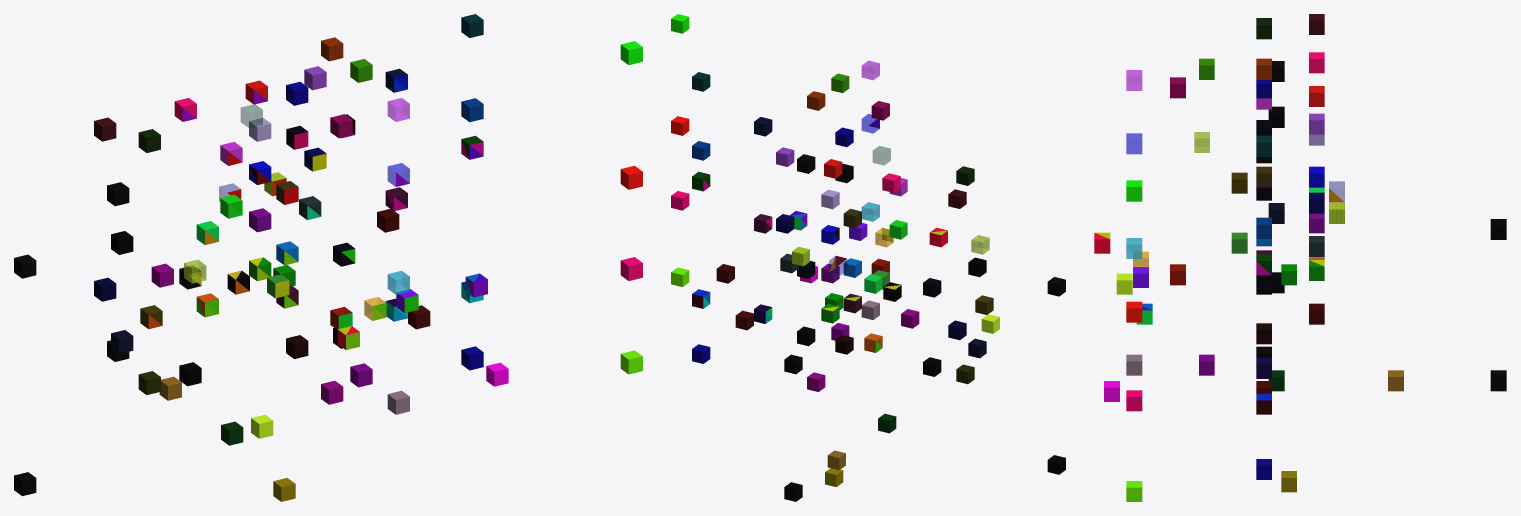
Rendered from testcubemodel8.obj.
The picture shows the model from 3 angles, left to right: view 1: azimuth 30°, elevation 25°; view 2: azimuth 150°, elevation 25°; view 3: azimuth 270°, elevation 25°; orthographic projection. The views are drawn at different scales.
Bounding box in the file's own units: 7737 × 6164 × 5198.
124 materials, 2 textured.
